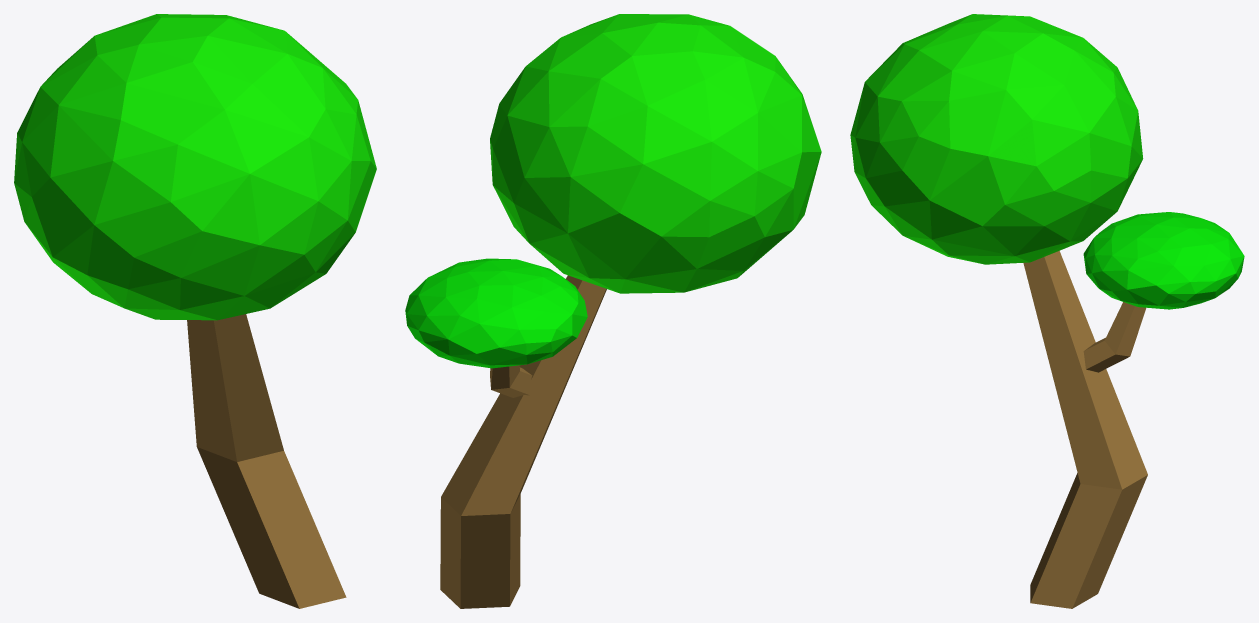
Rendered from puu2.fbx.
The picture shows the model from 3 angles, left to right: view 1: azimuth 30°, elevation 25°; view 2: azimuth 150°, elevation 25°; view 3: azimuth 270°, elevation 25°; orthographic projection. The views are drawn at different scales.
Parts seen in each view (by area): view 1: Icosphere, Runko; view 2: Icosphere, Runko, Icosphere.001; view 3: Icosphere, Runko, Icosphere.001.
Boxes of the visible parts, x1=… form: Icosphere: x1=14, y1=14, x2=376, y2=320; Runko: x1=187, y1=314, x2=346, y2=608; Icosphere: x1=490, y1=14, x2=821, y2=293; Runko: x1=440, y1=275, x2=606, y2=608; Icosphere.001: x1=405, y1=258, x2=587, y2=368; Icosphere: x1=850, y1=14, x2=1143, y2=264; Runko: x1=1023, y1=251, x2=1147, y2=608; Icosphere.001: x1=1083, y1=212, x2=1244, y2=309.
Size of the model in its own units: 361 by 624 by 441.
